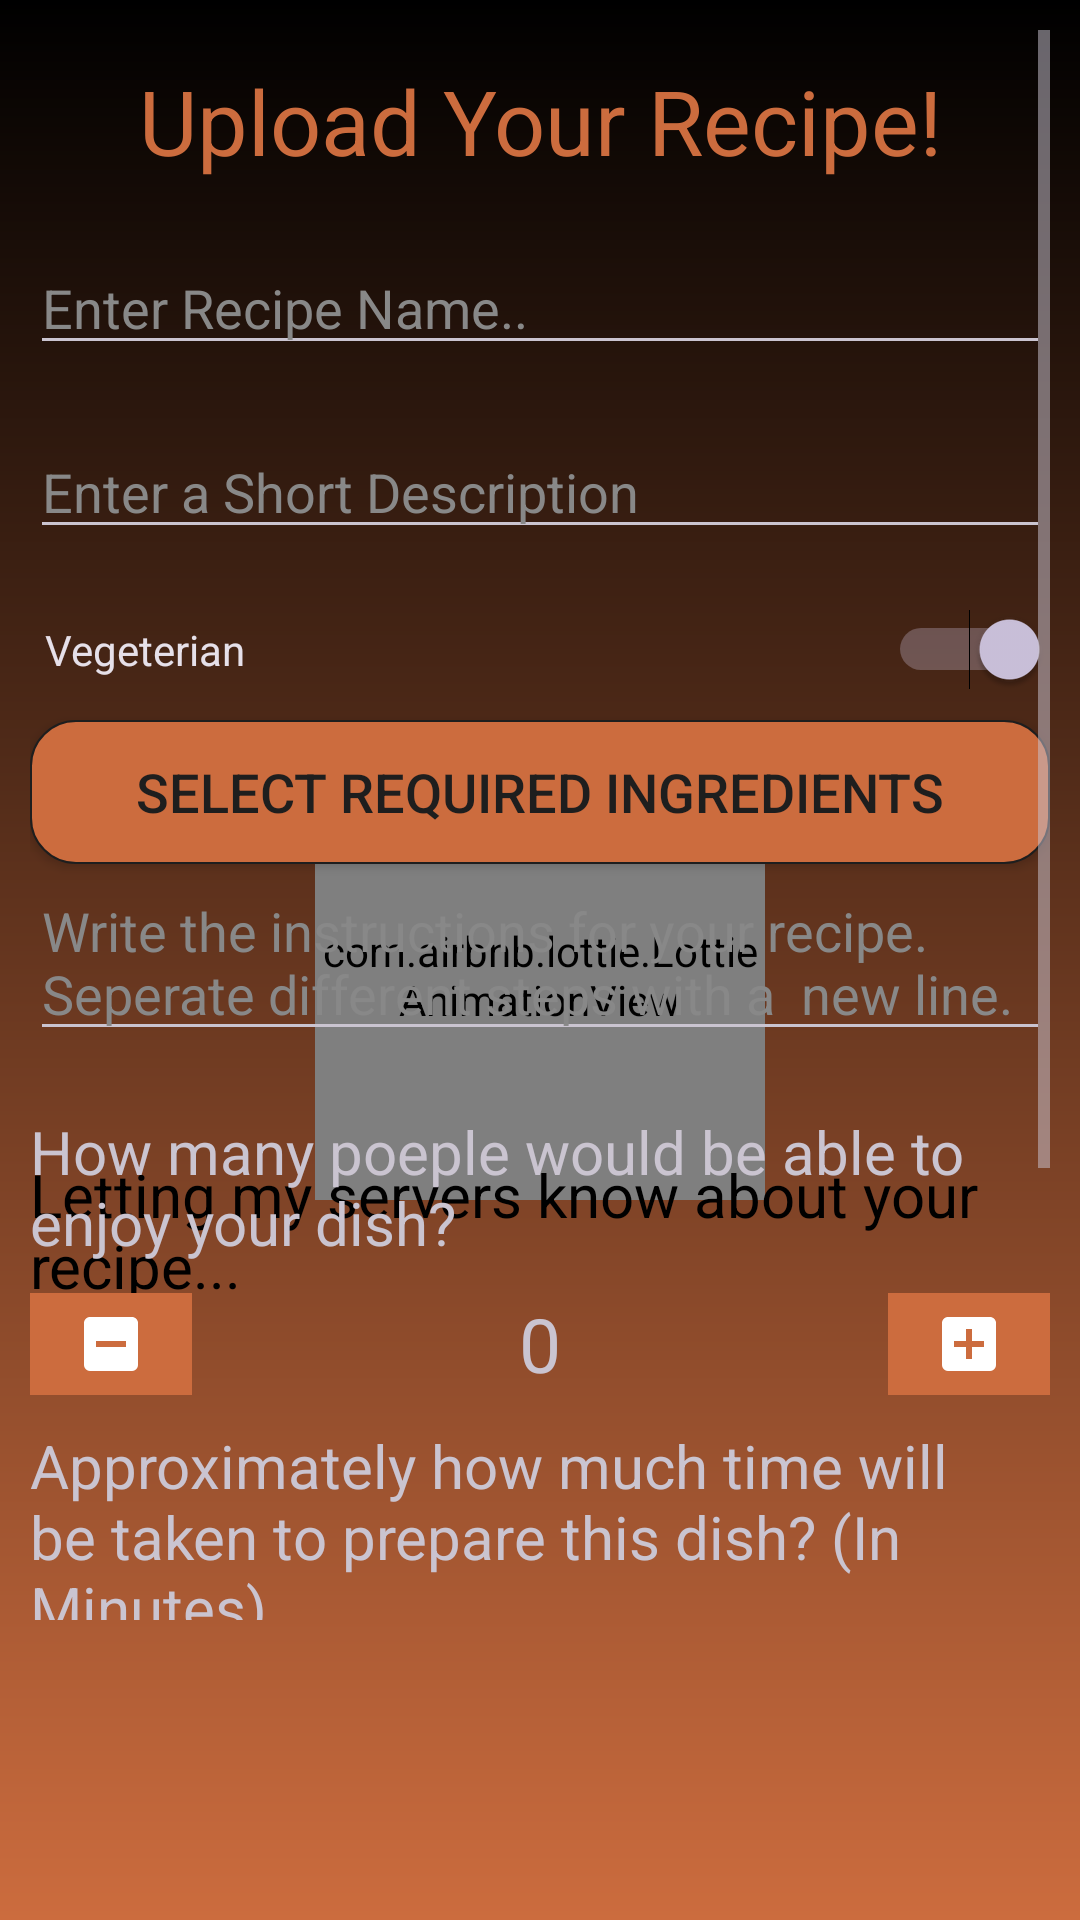

Where to tap for icons on this 1080x1920 app screen, as (x,y):
minus box: (111,1344)
plus box: (969,1344)
